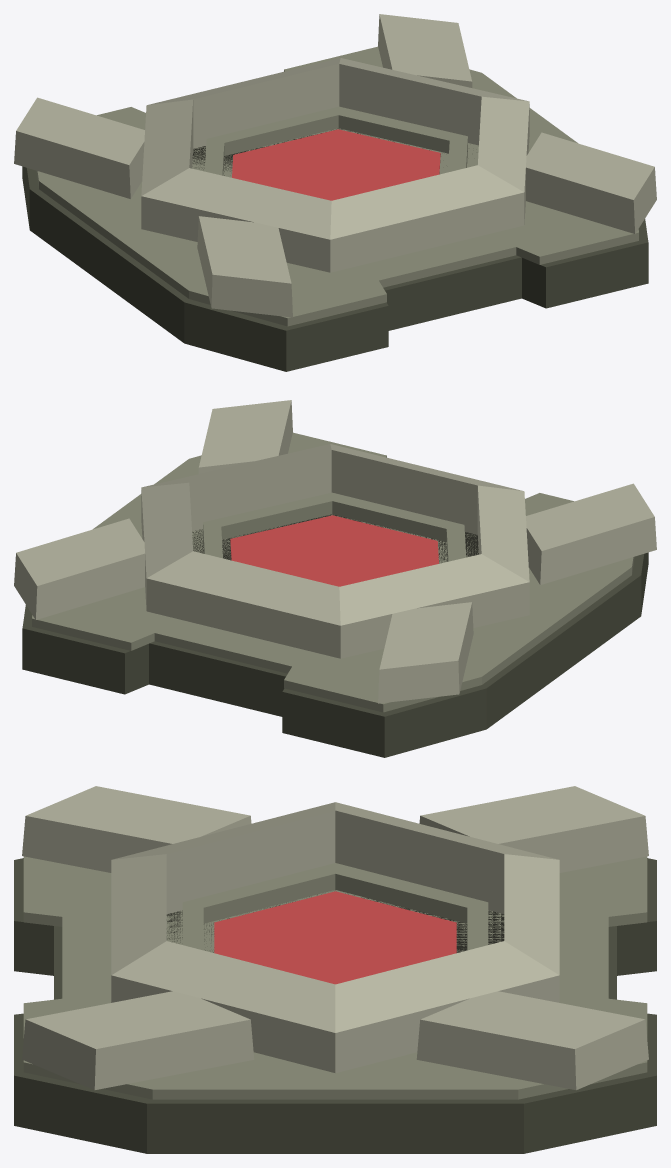
File: vge_mech_grav_engine.obj
3 renders of one model, top to bottom at view 1: azimuth 30°, elevation 25°; view 2: azimuth 150°, elevation 25°; view 3: azimuth 270°, elevation 25°, orthographic. The views are drawn at different scales.
Visible parts, largest first — view 1: vge_mech_grav_engine_0, vge_mech_grav_engine_1, vge_mech_grav_engine_10, vge_mech_grav_engine_9, vge_mech_grav_engine_19, vge_mech_grav_engine_4, vge_mech_grav_engine_3, vge_mech_grav_engine_2, vge_mech_grav_engine_7, vge_mech_grav_engine_6, vge_mech_grav_engine_5, vge_mech_grav_engine_11 (+5 smaller); view 2: vge_mech_grav_engine_0, vge_mech_grav_engine_1, vge_mech_grav_engine_7, vge_mech_grav_engine_8, vge_mech_grav_engine_19, vge_mech_grav_engine_5, vge_mech_grav_engine_2, vge_mech_grav_engine_3, vge_mech_grav_engine_10, vge_mech_grav_engine_11, vge_mech_grav_engine_4, vge_mech_grav_engine_6 (+6 smaller); view 3: vge_mech_grav_engine_0, vge_mech_grav_engine_1, vge_mech_grav_engine_4, vge_mech_grav_engine_5, vge_mech_grav_engine_19, vge_mech_grav_engine_6, vge_mech_grav_engine_11, vge_mech_grav_engine_2, vge_mech_grav_engine_3, vge_mech_grav_engine_8, vge_mech_grav_engine_9, vge_mech_grav_engine_7 (+6 smaller).
Boxes of the visible parts, bbox=[...] form: vge_mech_grav_engine_0: bbox=[22, 166, 648, 371]; vge_mech_grav_engine_1: bbox=[36, 46, 638, 326]; vge_mech_grav_engine_10: bbox=[330, 165, 524, 272]; vge_mech_grav_engine_9: bbox=[141, 168, 331, 272]; vge_mech_grav_engine_19: bbox=[232, 129, 440, 200]; vge_mech_grav_engine_4: bbox=[526, 132, 656, 233]; vge_mech_grav_engine_3: bbox=[14, 97, 144, 198]; vge_mech_grav_engine_2: bbox=[197, 216, 292, 317]; vge_mech_grav_engine_7: bbox=[148, 58, 340, 148]; vge_mech_grav_engine_6: bbox=[339, 58, 527, 145]; vge_mech_grav_engine_5: bbox=[378, 14, 472, 87]; vge_mech_grav_engine_11: bbox=[478, 96, 529, 224]; vge_mech_grav_engine_0: bbox=[22, 552, 648, 757]; vge_mech_grav_engine_1: bbox=[32, 432, 634, 712]; vge_mech_grav_engine_7: bbox=[146, 551, 340, 658]; vge_mech_grav_engine_8: bbox=[339, 554, 529, 658]; vge_mech_grav_engine_19: bbox=[230, 515, 438, 586]; vge_mech_grav_engine_5: bbox=[14, 518, 144, 619]; vge_mech_grav_engine_2: bbox=[526, 483, 656, 584]; vge_mech_grav_engine_3: bbox=[378, 602, 473, 703]; vge_mech_grav_engine_10: bbox=[330, 444, 522, 534]; vge_mech_grav_engine_11: bbox=[143, 444, 331, 531]; vge_mech_grav_engine_4: bbox=[198, 400, 292, 473]; vge_mech_grav_engine_6: bbox=[141, 482, 192, 610]; vge_mech_grav_engine_0: bbox=[14, 858, 656, 1153]; vge_mech_grav_engine_1: bbox=[23, 856, 647, 1099]; vge_mech_grav_engine_4: bbox=[22, 991, 254, 1090]; vge_mech_grav_engine_5: bbox=[416, 991, 648, 1090]; vge_mech_grav_engine_19: bbox=[214, 891, 456, 984]; vge_mech_grav_engine_6: bbox=[335, 941, 559, 1073]; vge_mech_grav_engine_11: bbox=[111, 941, 335, 1072]; vge_mech_grav_engine_2: bbox=[22, 786, 251, 872]; vge_mech_grav_engine_3: bbox=[419, 786, 648, 872]; vge_mech_grav_engine_8: bbox=[335, 802, 557, 913]; vge_mech_grav_engine_9: bbox=[113, 802, 335, 913]; vge_mech_grav_engine_7: bbox=[504, 854, 559, 974].
Size of the model in its own units: 2.9 by 0.6 by 2.9.
